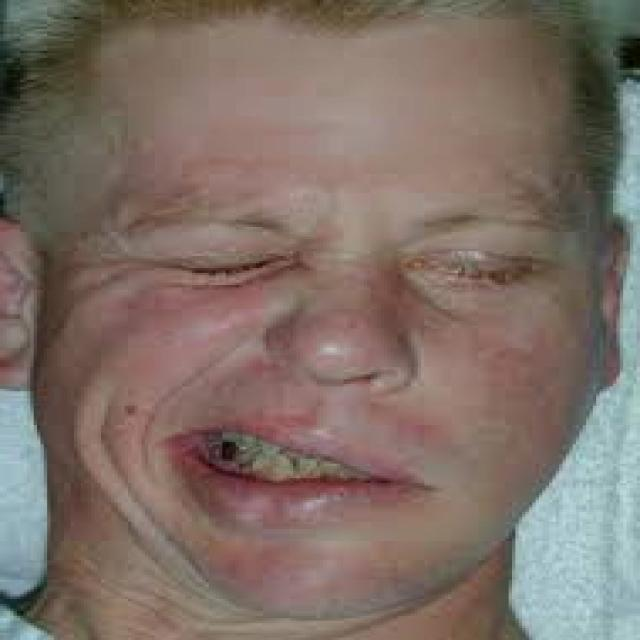stroke_face: (3, 27, 598, 608)
